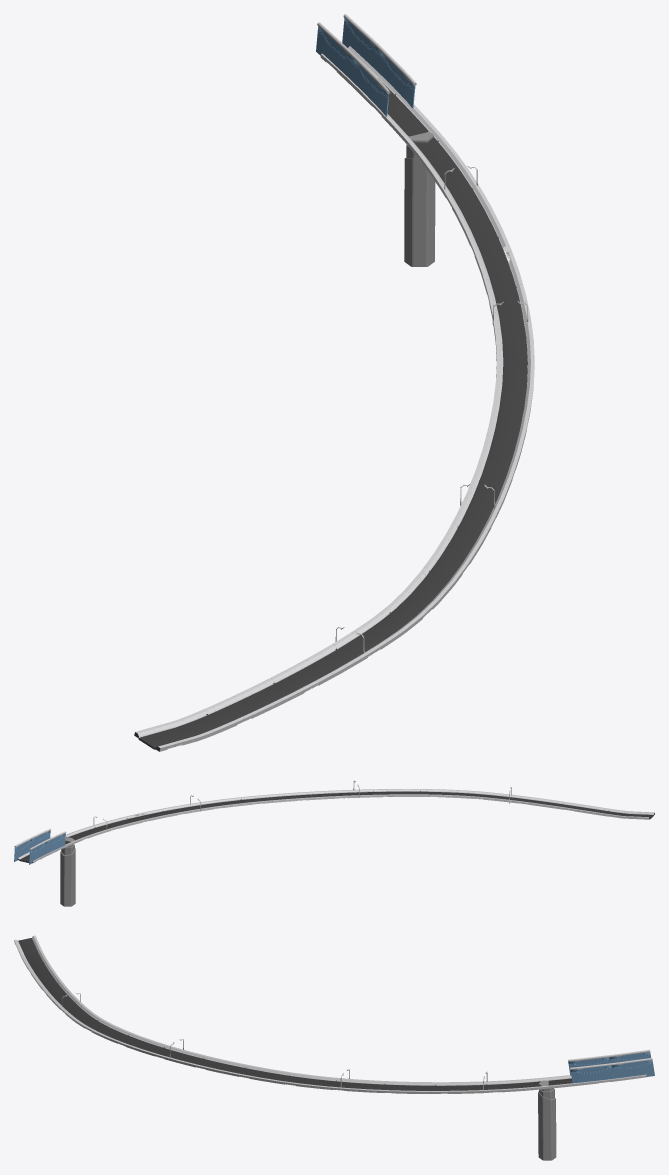
3 renders of one model, top to bottom at view 1: azimuth 30°, elevation 25°; view 2: azimuth 150°, elevation 25°; view 3: azimuth 270°, elevation 25°, orthographic. The views are drawn at different scales.
Visible parts, largest first — view 1: KB3D_HTS_Road_H_Main_002.001, KB3D_HTS_Road_H_Main_002, 圓柱體_001, KB3D_HTS_PathA_E_Main, KB3D_HTS_PathA_E_Main_001; view 2: KB3D_HTS_Road_H_Main_002, KB3D_HTS_Road_H_Main_002.001, 圓柱體_001, KB3D_HTS_PathA_E_Main, KB3D_HTS_PathA_E_Main_001; view 3: KB3D_HTS_Road_H_Main_002, KB3D_HTS_Road_H_Main_002.001, KB3D_HTS_PathA_E_Main_001, 圓柱體_001, KB3D_HTS_PathA_E_Main.
Part boxes in pixels (bbox=[...]): KB3D_HTS_Road_H_Main_002.001: bbox=[138, 86, 527, 749]; KB3D_HTS_Road_H_Main_002: bbox=[134, 46, 534, 751]; 圓柱體_001: bbox=[404, 131, 435, 266]; KB3D_HTS_PathA_E_Main: bbox=[316, 22, 390, 116]; KB3D_HTS_PathA_E_Main_001: bbox=[342, 14, 416, 108]; KB3D_HTS_Road_H_Main_002: bbox=[17, 789, 654, 863]; KB3D_HTS_Road_H_Main_002.001: bbox=[19, 791, 653, 862]; 圓柱體_001: bbox=[60, 837, 75, 906]; KB3D_HTS_PathA_E_Main: bbox=[29, 831, 66, 864]; KB3D_HTS_PathA_E_Main_001: bbox=[14, 828, 51, 861]; KB3D_HTS_Road_H_Main_002: bbox=[14, 935, 646, 1093]; KB3D_HTS_Road_H_Main_002.001: bbox=[18, 938, 572, 1090]; KB3D_HTS_PathA_E_Main_001: bbox=[570, 1058, 654, 1083]; 圓柱體_001: bbox=[538, 1080, 556, 1160]; KB3D_HTS_PathA_E_Main: bbox=[568, 1050, 651, 1075].
Bounding box in the file's own units: 34417 × 7859 × 44038.
